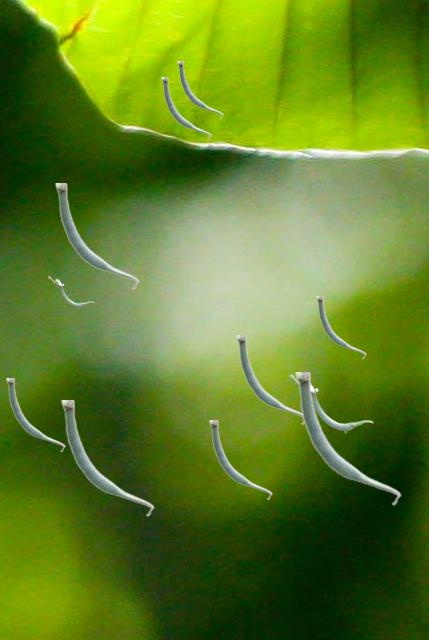french_bean: (295, 372, 400, 505), (61, 400, 153, 516), (55, 183, 138, 289), (236, 335, 303, 424), (209, 420, 271, 499), (289, 374, 372, 432), (6, 378, 64, 451), (161, 77, 210, 139), (316, 296, 365, 358), (177, 61, 222, 118), (48, 276, 93, 307)
